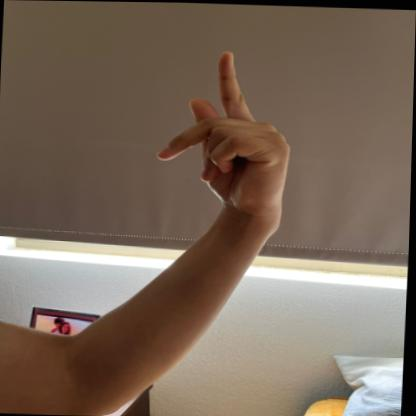K: (151, 46, 308, 222)
